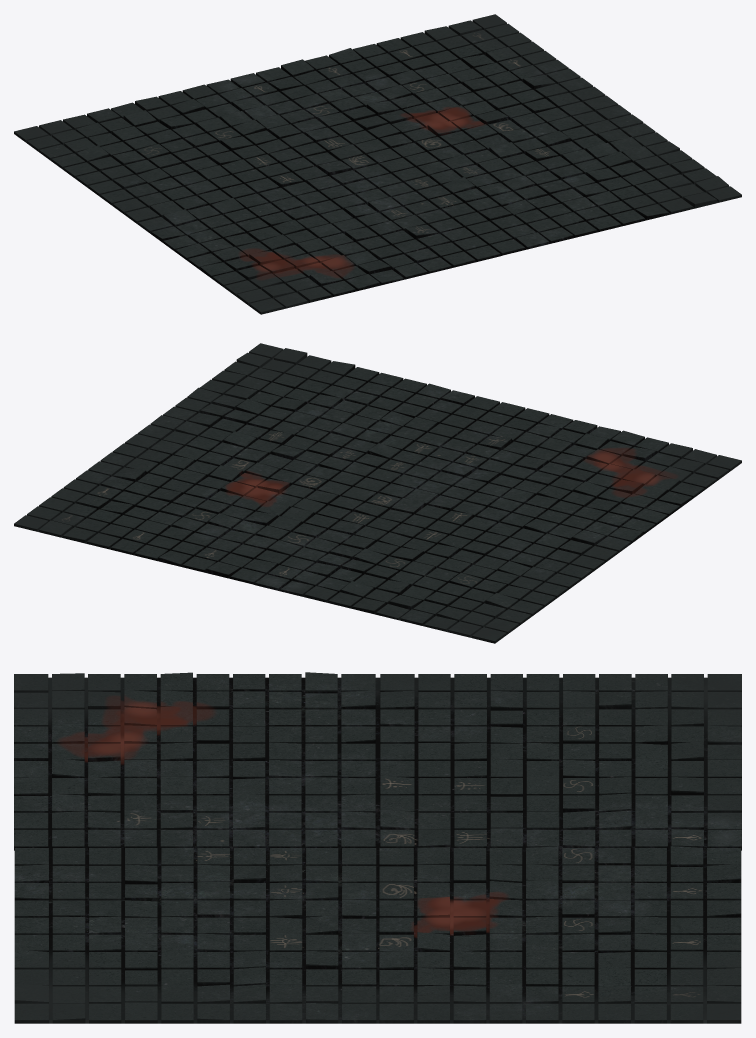
Rendered from FloorPuzzle_EnvriDes_Final.fbx.
3 views of the same model, one above another, from view 1: azimuth 30°, elevation 25°; view 2: azimuth 150°, elevation 25°; view 3: azimuth 270°, elevation 25° (orthographic). The views are drawn at different scales.
Visible parts, largest first — view 1: BBRoomSF2.001; view 2: BBRoomSF2.001; view 3: BBRoomSF2.001.
Part boxes in pixels (x1,y1,x2,y2): BBRoomSF2.001: (14,14,741,314); BBRoomSF2.001: (14,343,741,643); BBRoomSF2.001: (14,672,741,1023).
Size of the model in its own units: 167868 by 1614 by 149224.
1 material, 1 textured.
